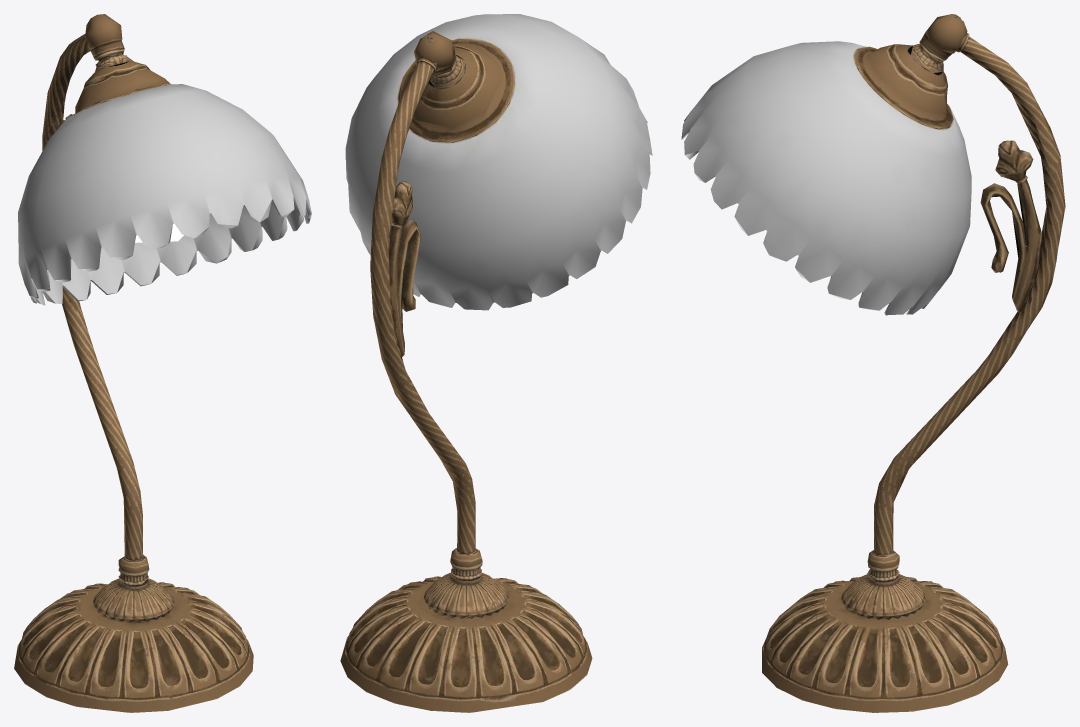
The model's file is packed_table_lamp.glb.
The picture shows the model from 3 angles, left to right: view 1: azimuth 30°, elevation 25°; view 2: azimuth 150°, elevation 25°; view 3: azimuth 270°, elevation 25°; orthographic projection. The views are drawn at different scales.
Bounding box in the file's own units: 0.2484 × 0.578 × 0.3118.
3 materials, 2 textured.
